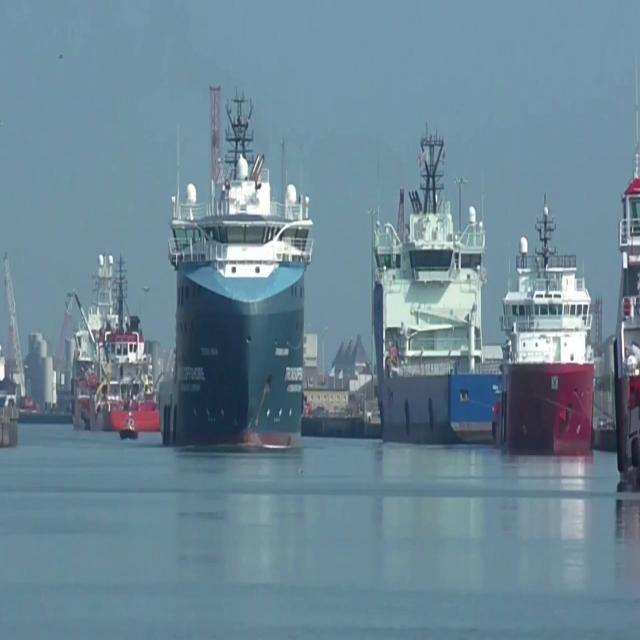OCR: (177, 356, 205, 394)
